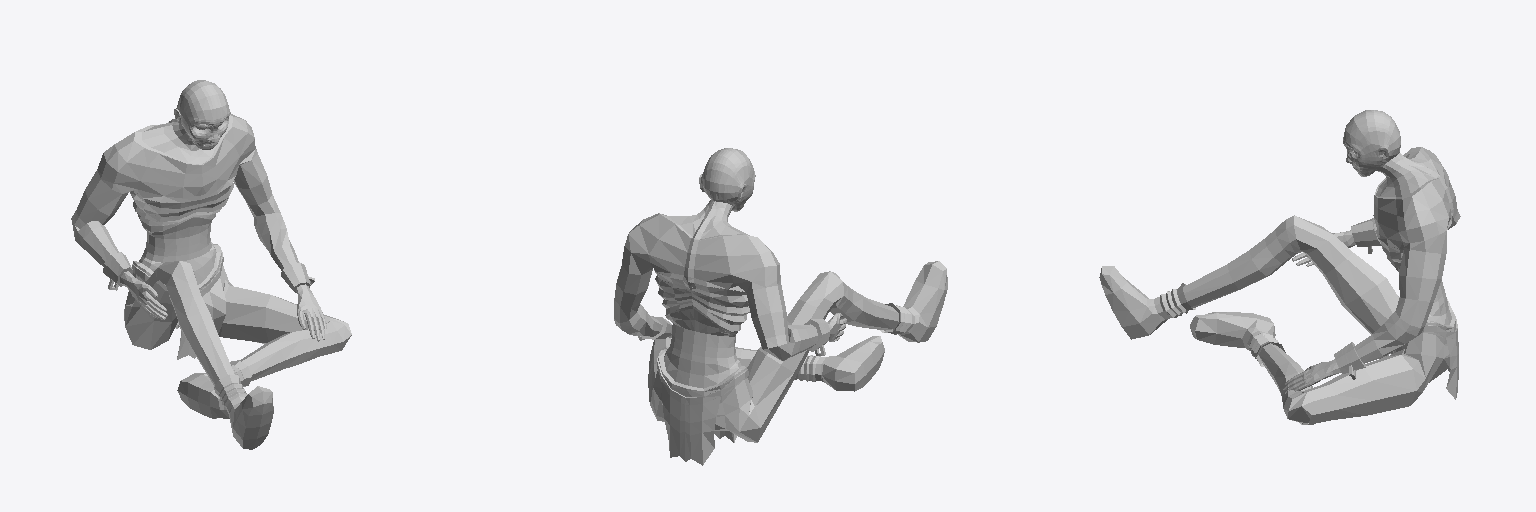
Rendered from DS_Hollow_Sentado.obj.
3 views of the same model, side by side, from view 1: azimuth 30°, elevation 25°; view 2: azimuth 150°, elevation 25°; view 3: azimuth 270°, elevation 25° (orthographic).
Parts seen in each view (by area): view 1: default; view 2: default; view 3: default.
Part boxes in pixels (x1,y1,x2,y2): default: (71, 80, 351, 449); default: (614, 148, 947, 465); default: (1099, 110, 1460, 424).
Bounding box in the file's own units: 1.93 × 2.54 × 2.93.